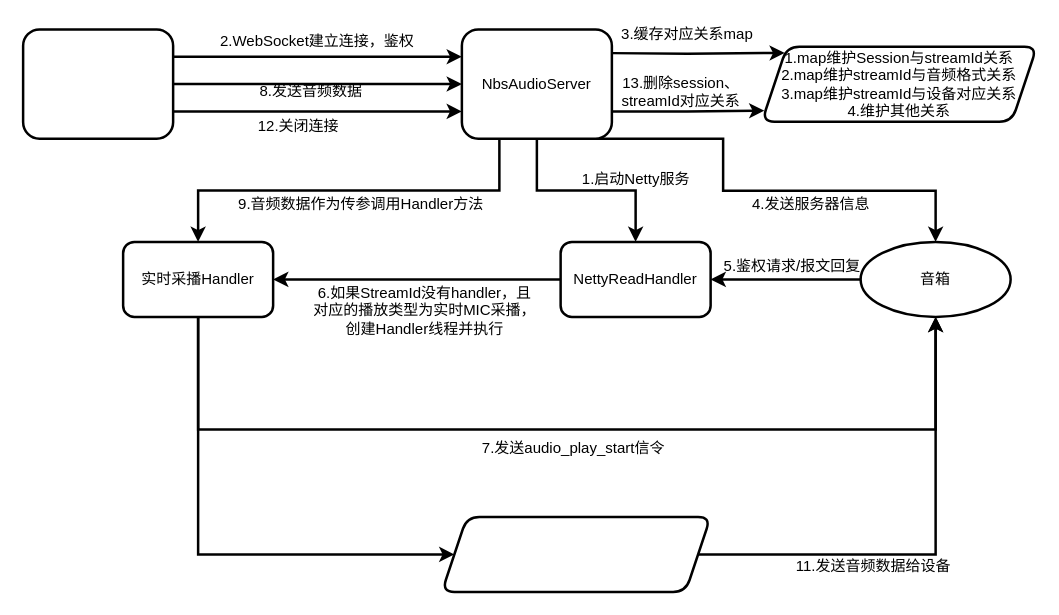
The diagram is 1059 pixels wide and 615 high, and some of its shapes have lost their labels. The shapes that lost their labels are listed below. From the top down, each one's centre as x and y in pixels, then its label:
[97,83]: 浏览器
[575,553]: 10.map获取音频格式， 转换为设备支持的音频数据
